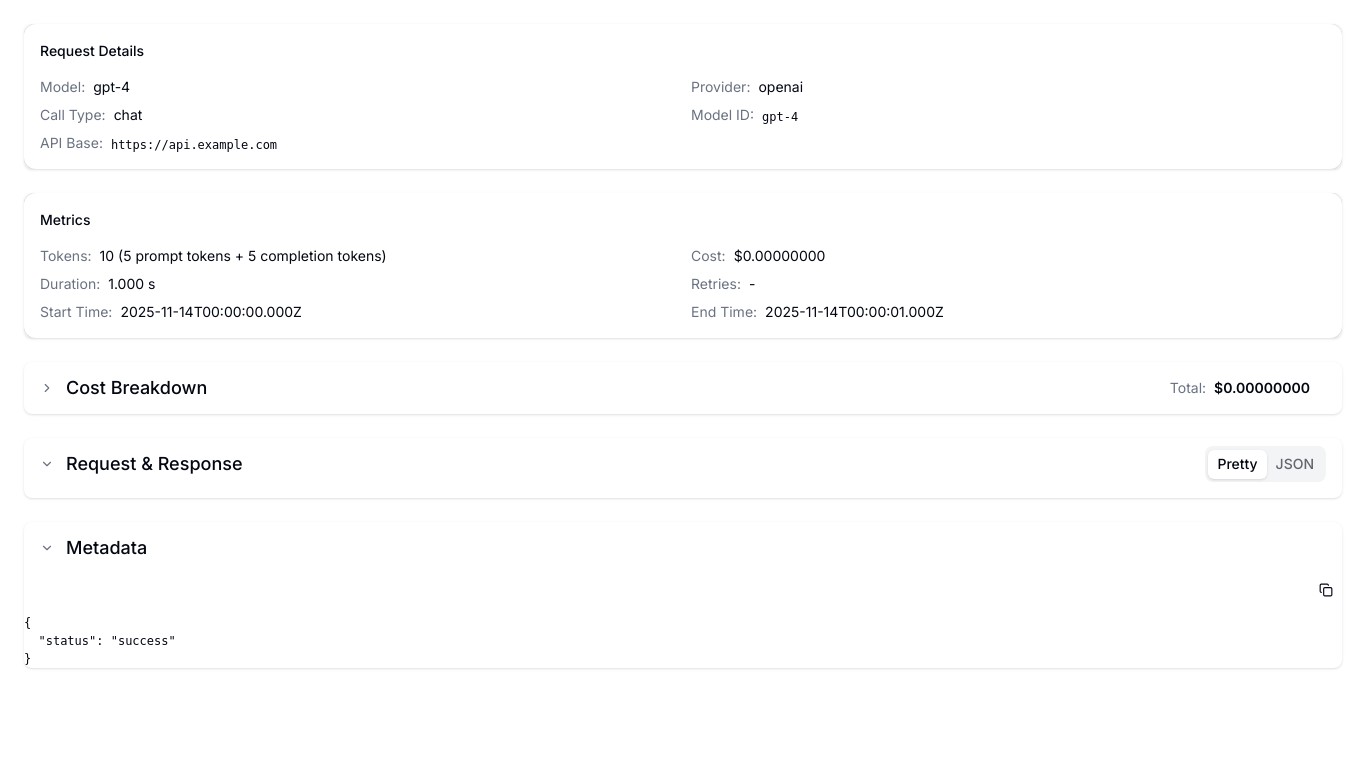
Scenario: LogDetailContent › should display Request and Response tabs when JSON view is selected
The width and height of the screenshot is (1366, 768).
Click the tab "JSON" at (1295, 464), box x1=1267 y1=450 x2=1323 y2=478
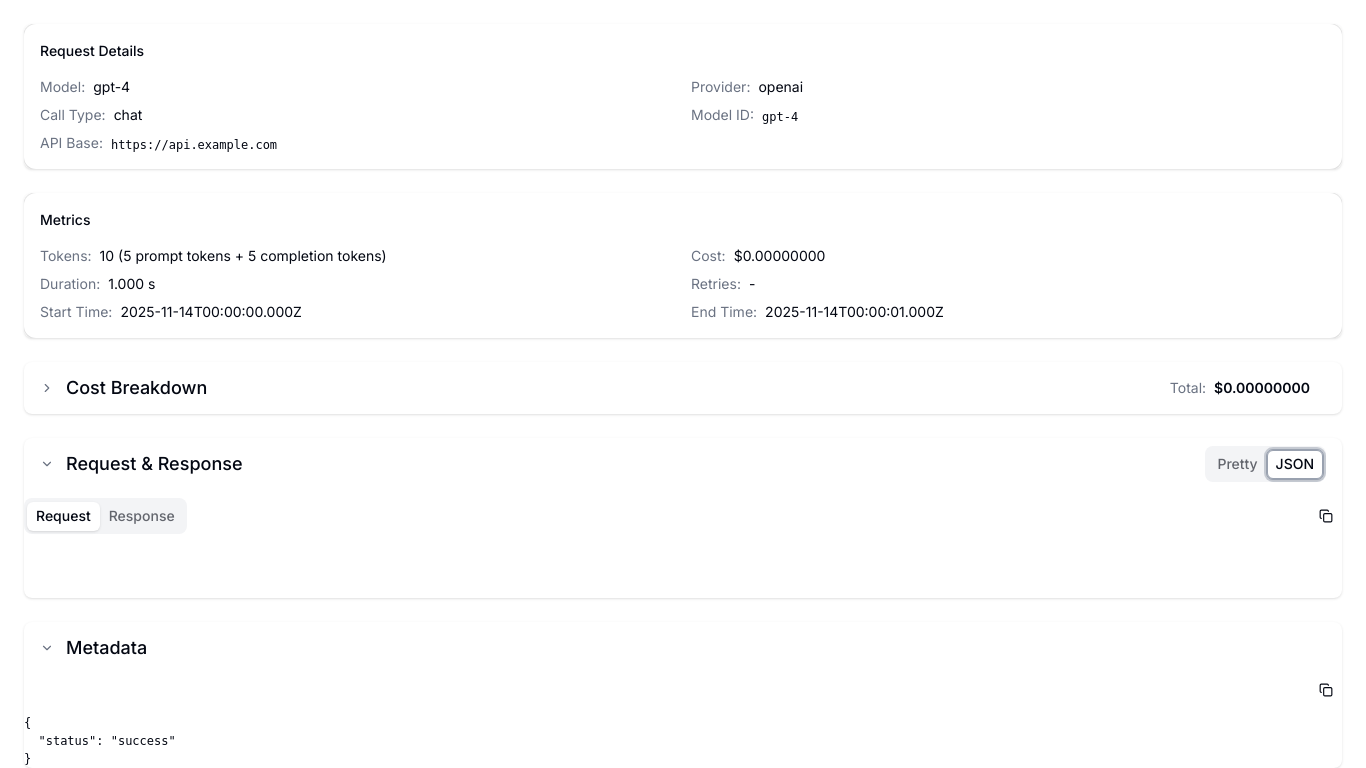
Now the tab "Request" is shown, box x1=27 y1=502 x2=100 y2=530
Now the tab "Response" is shown, box x1=100 y1=502 x2=184 y2=530
